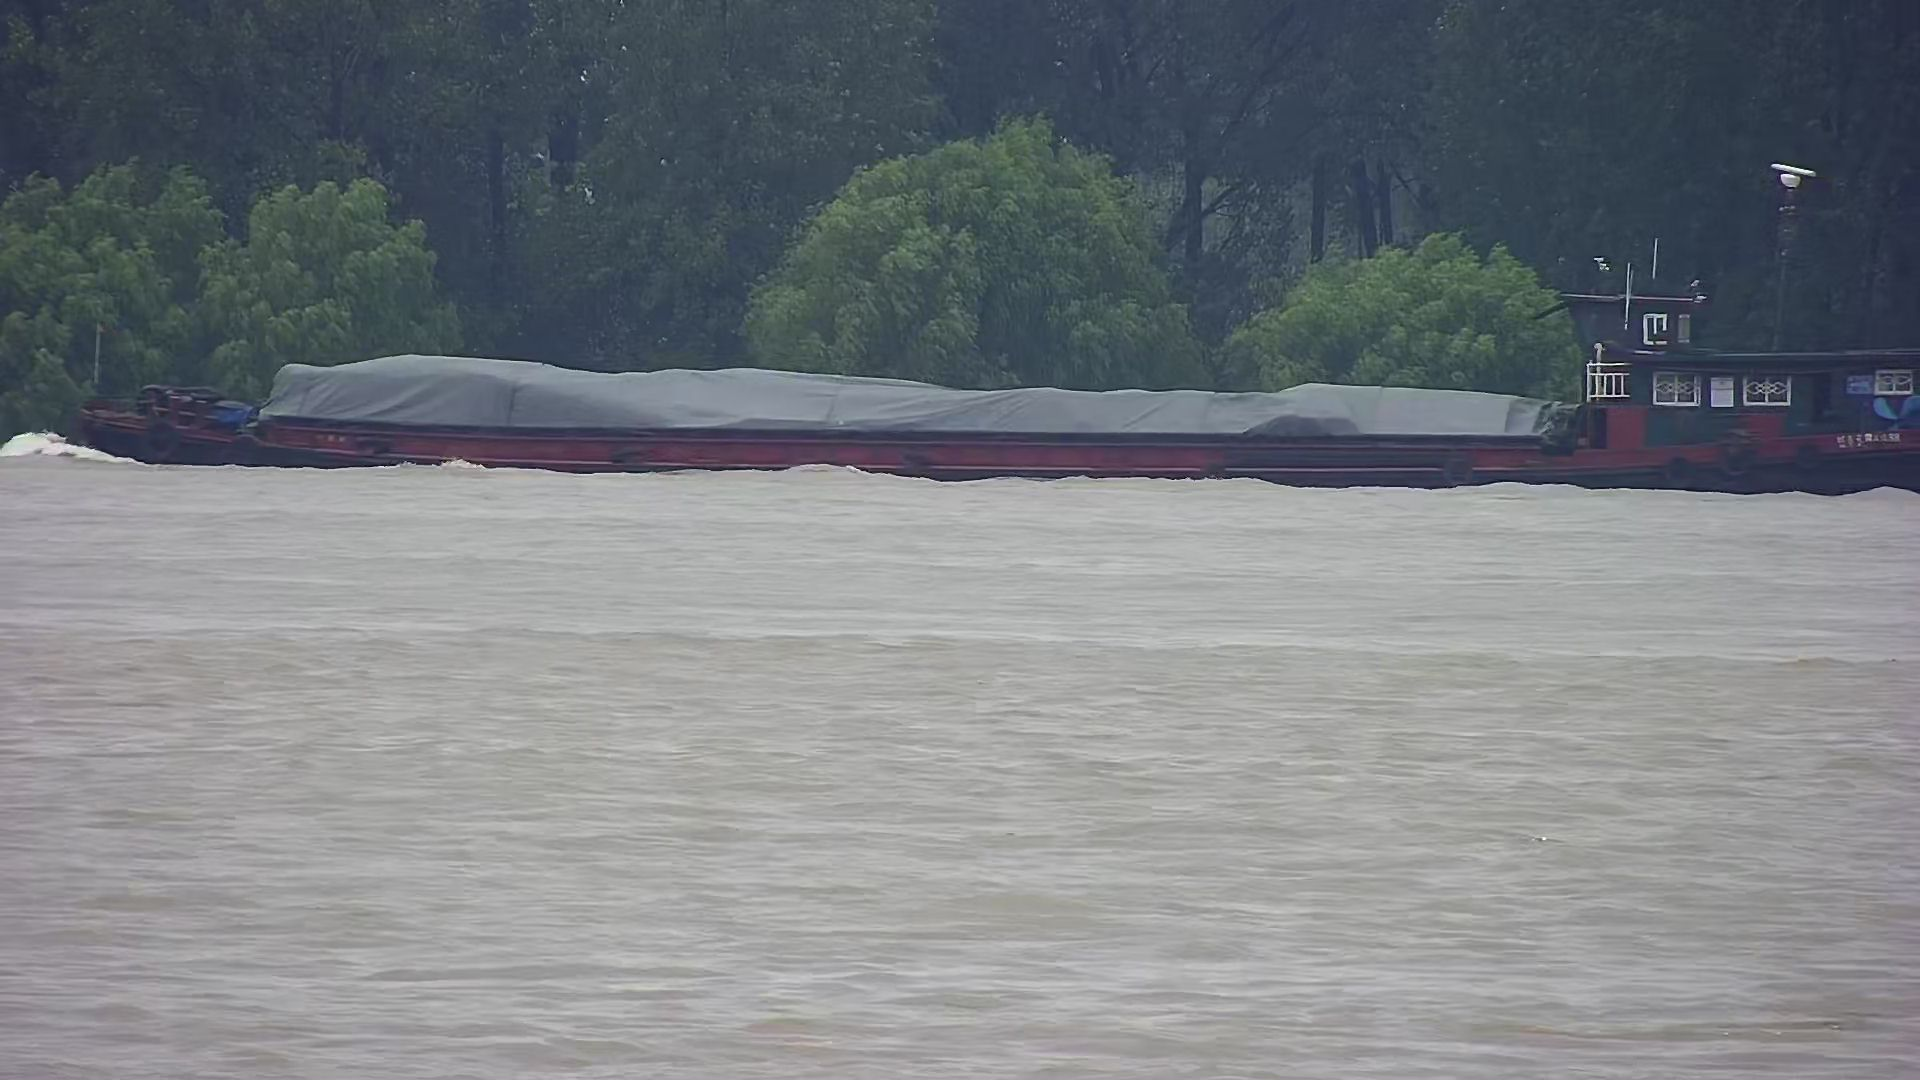ship: (73, 245, 1920, 495)
